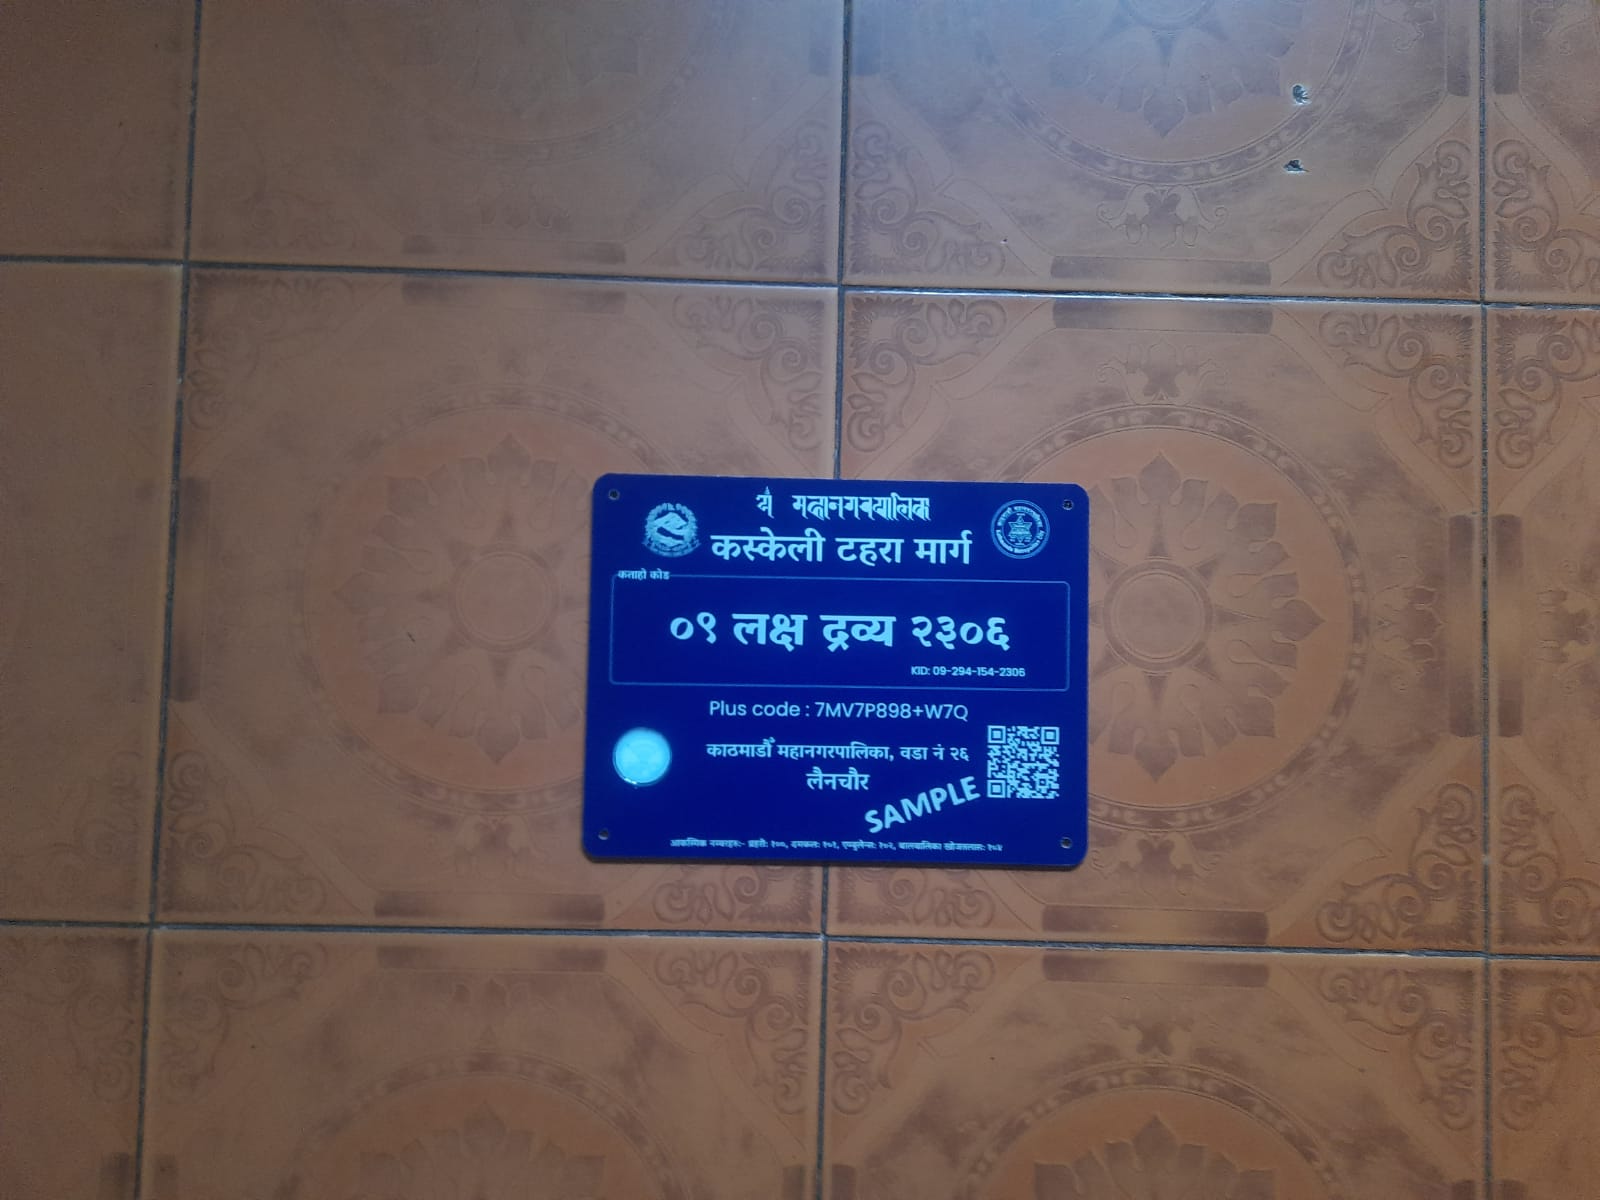Plate: (579, 469, 1097, 873)
